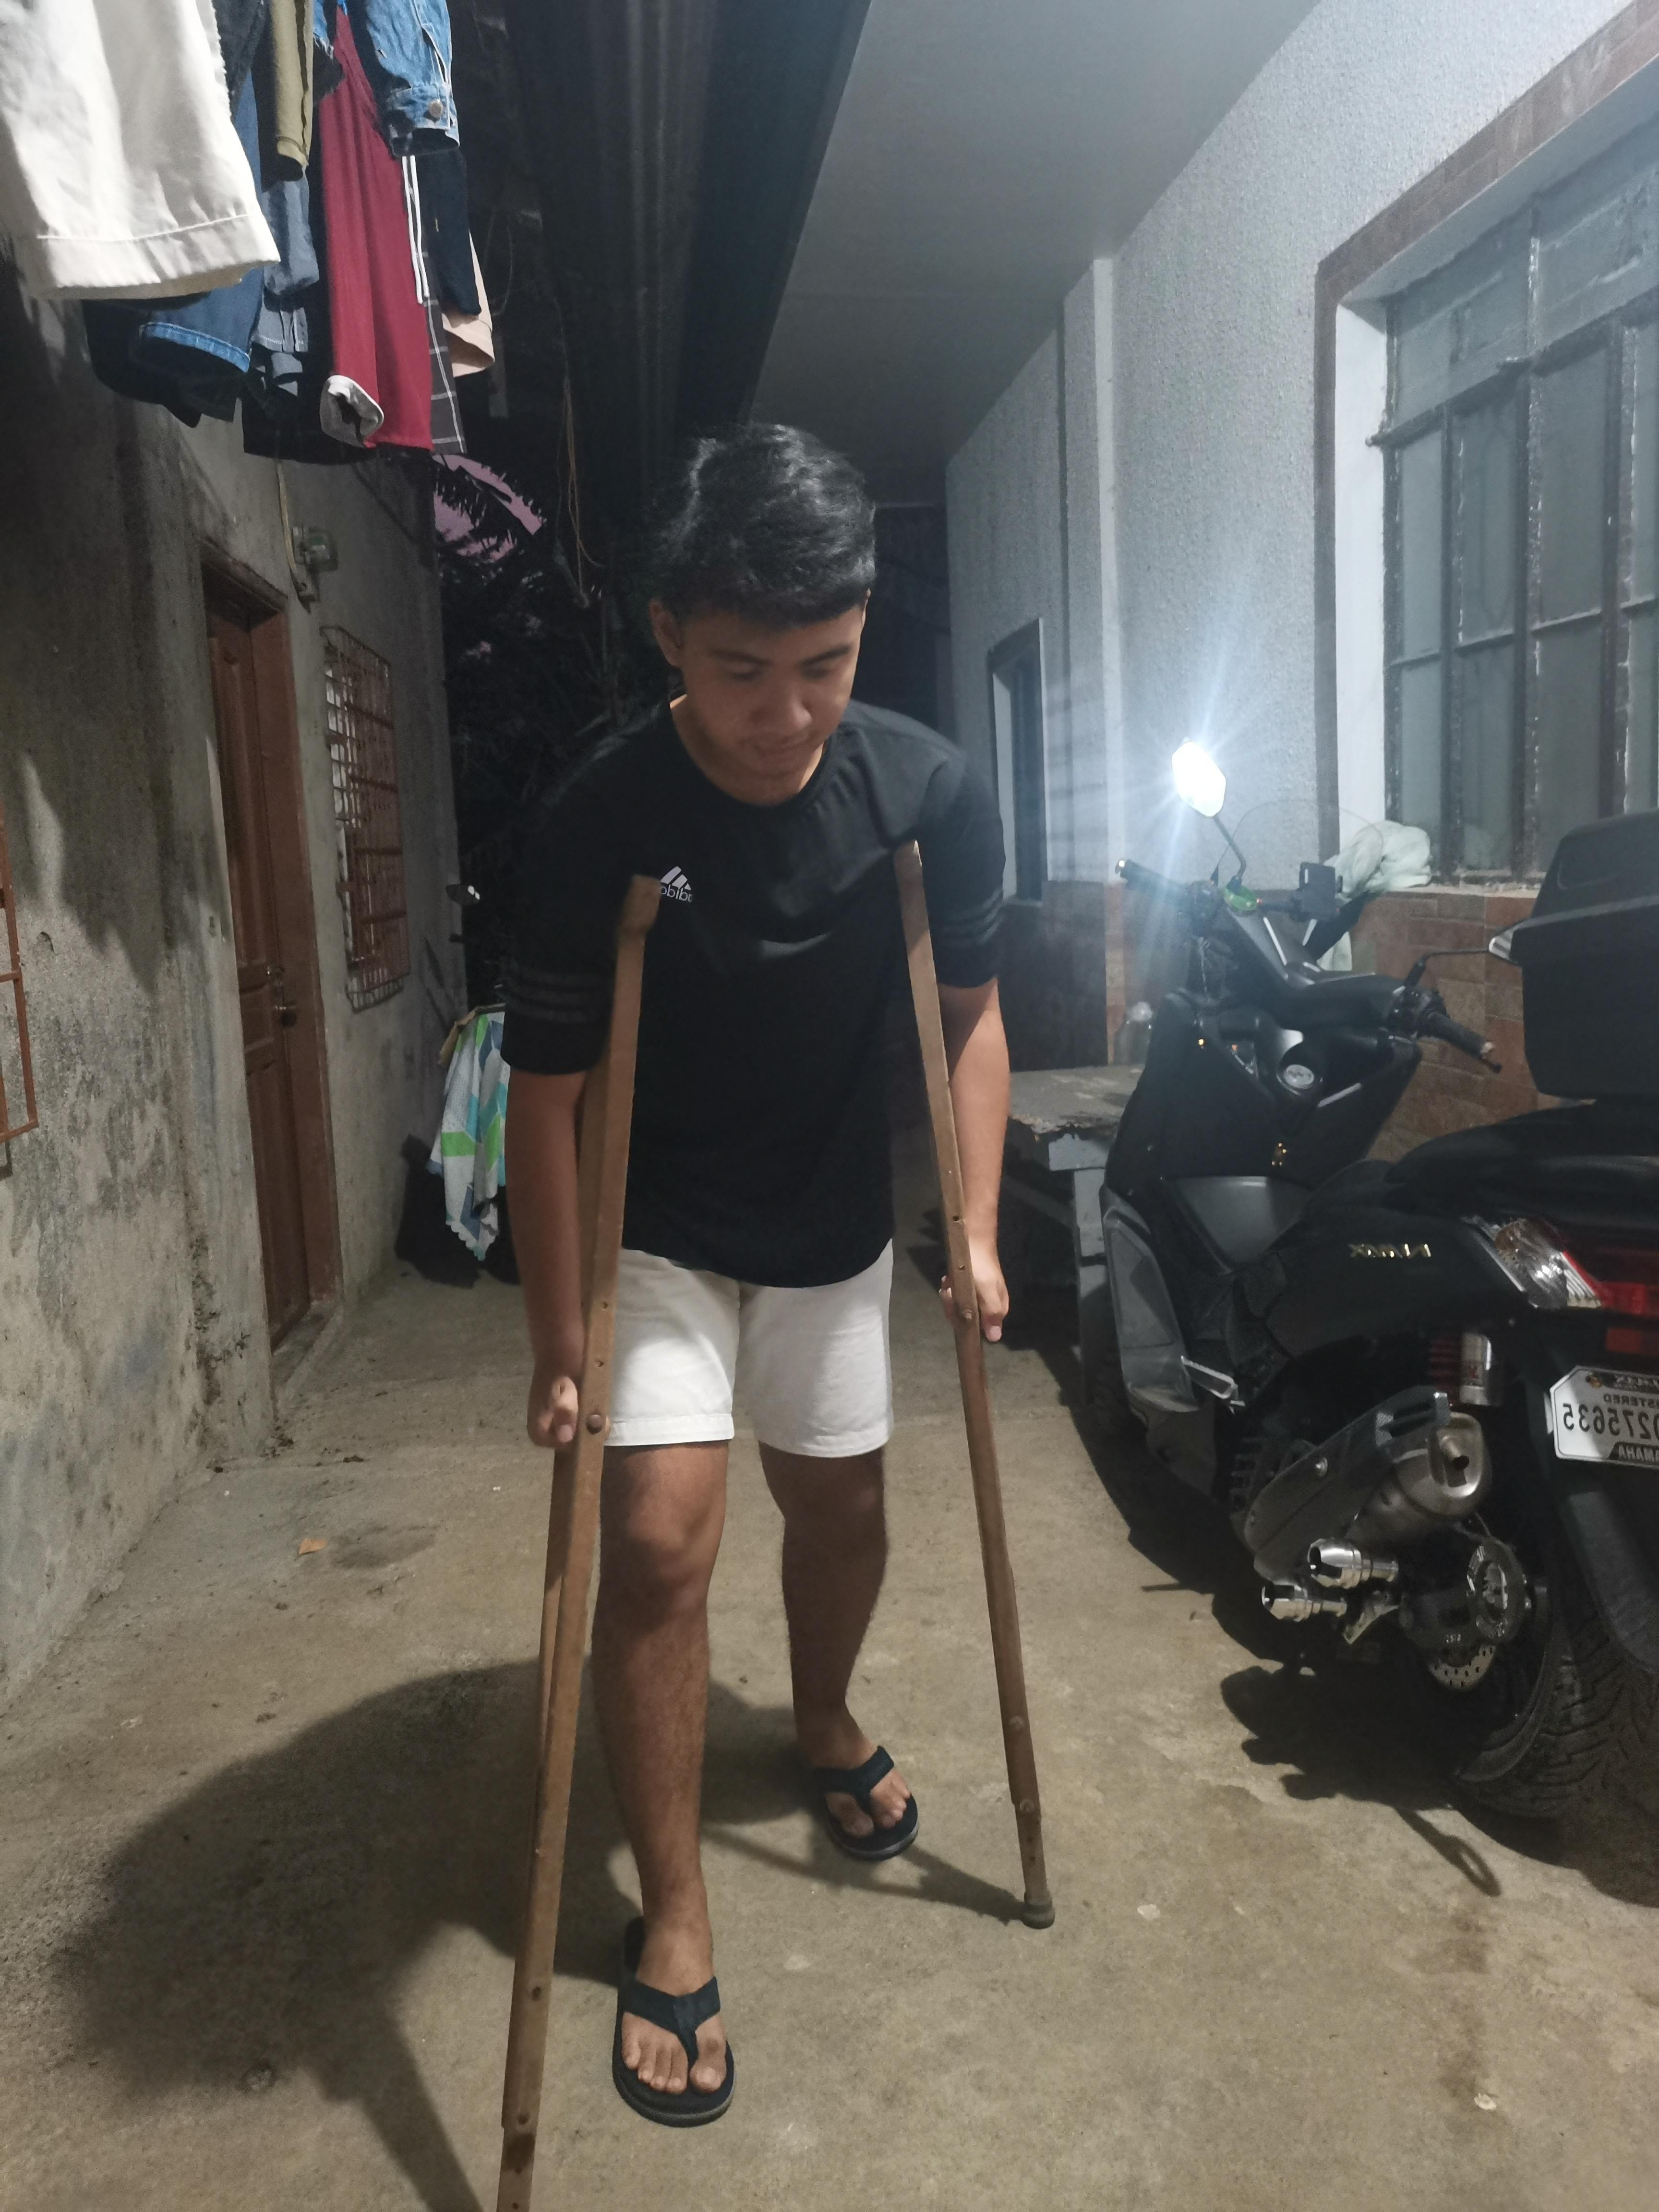crutches: (486, 428, 1056, 2212)
